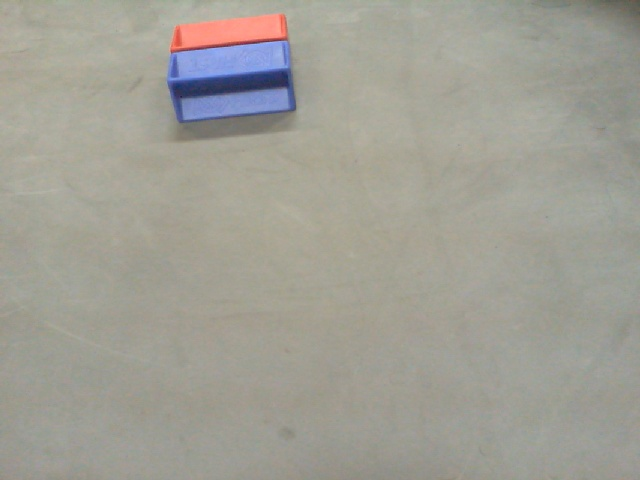BlueSample: (167, 40, 314, 124)
RedSample: (164, 12, 290, 51)
